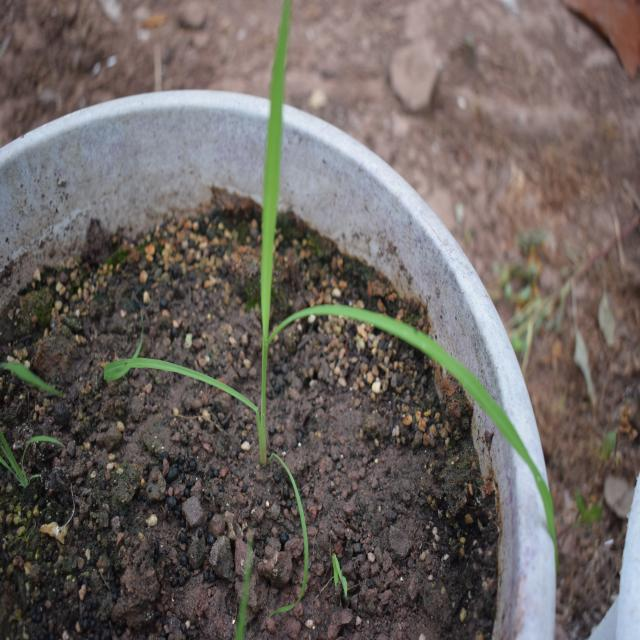barnyard_grass: (124, 0, 576, 525)
